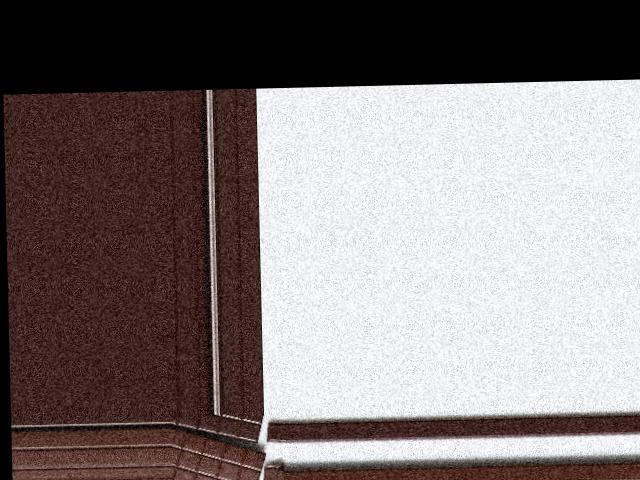chocolate: (170, 428, 265, 480)
